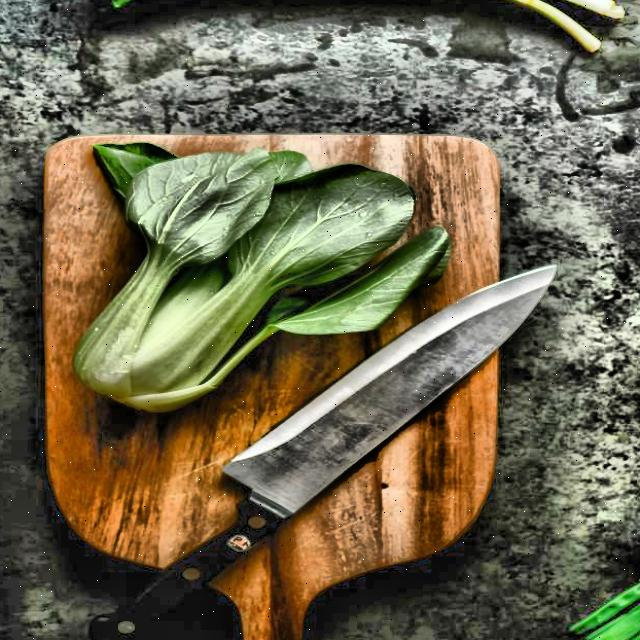knife: (78, 259, 566, 640)
